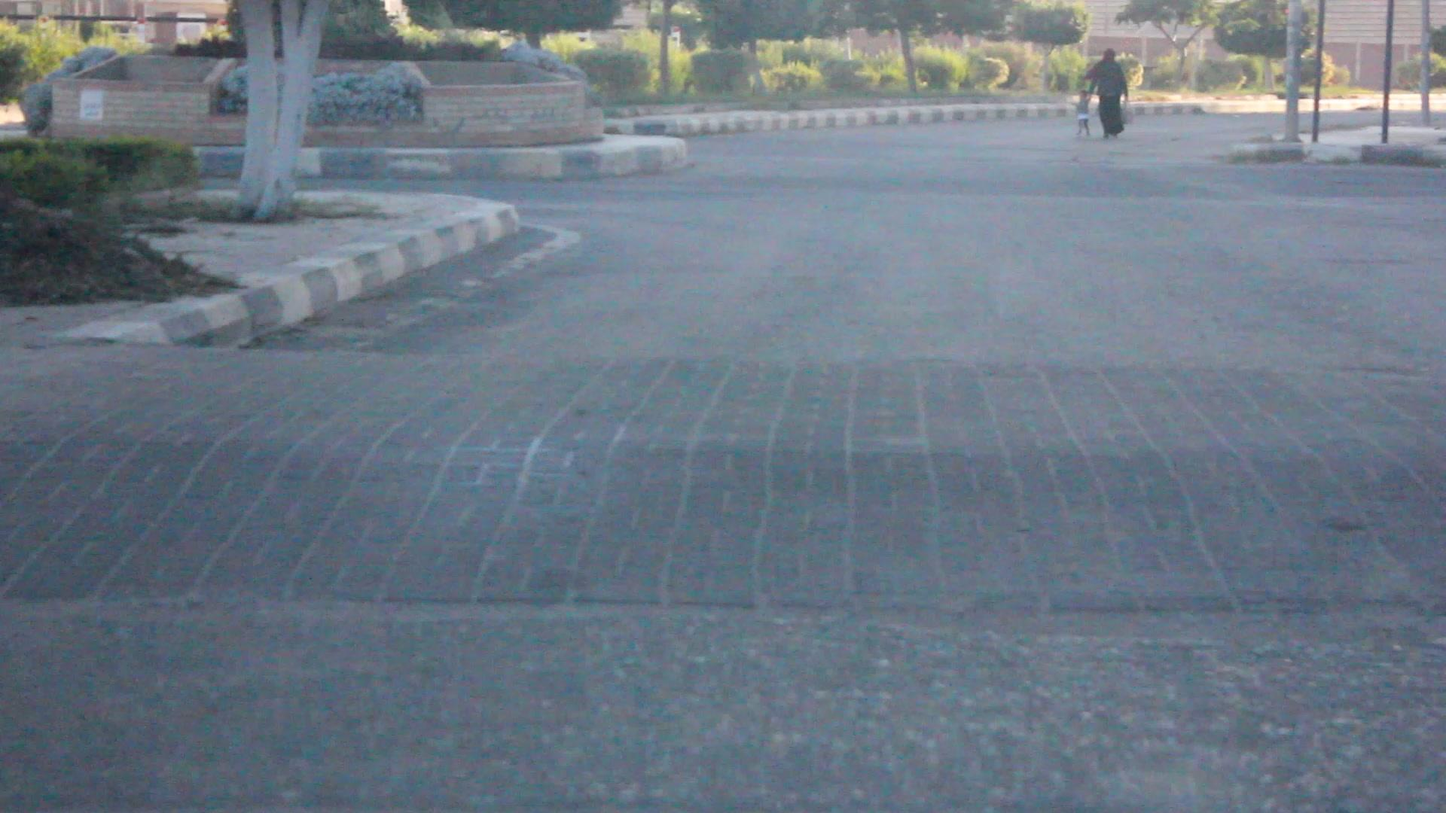Bump: (6, 344, 1446, 604)
